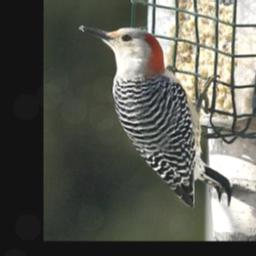Woodpecker: (78, 24, 232, 207)
